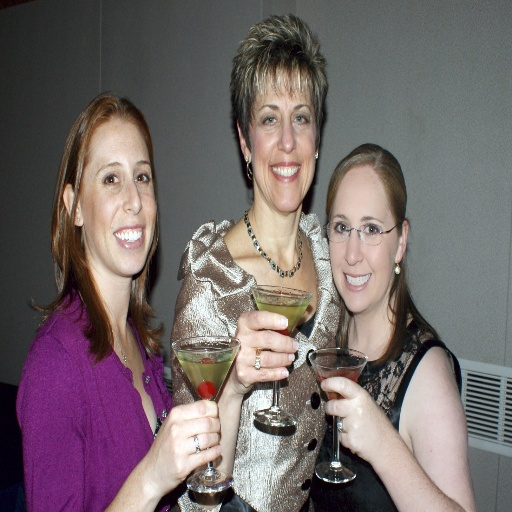hand: (115, 415, 232, 501), (317, 373, 391, 463), (232, 308, 300, 398)
